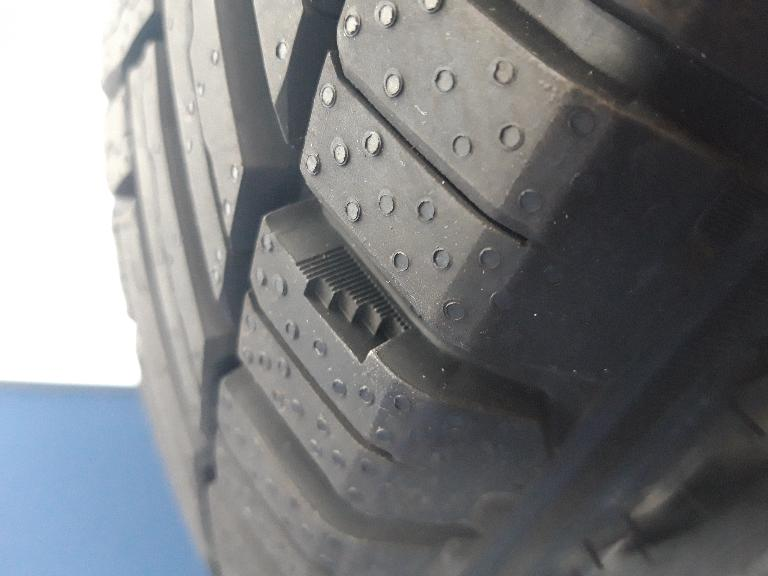temoin:100: (294, 244, 414, 368)
